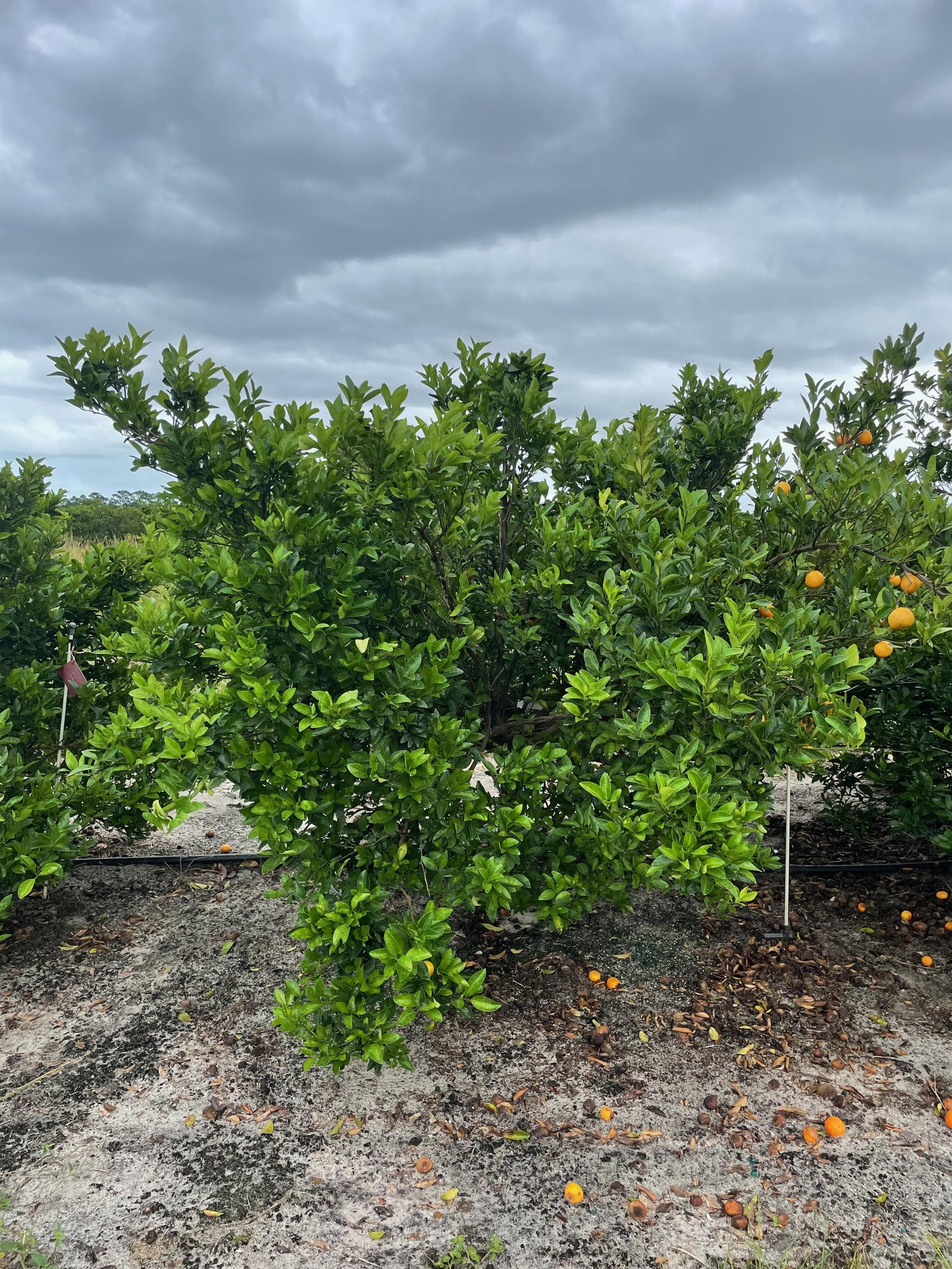fruit_on_ground: (886, 604, 917, 633), (792, 741, 822, 768), (897, 569, 925, 596), (791, 713, 819, 739), (744, 708, 771, 731), (883, 566, 906, 589), (816, 696, 839, 719), (803, 568, 827, 590), (871, 638, 895, 659), (834, 431, 856, 450), (854, 428, 875, 447), (772, 479, 793, 498), (758, 601, 778, 620)
fruit_on_tree: (823, 1115, 848, 1140), (562, 1180, 585, 1206), (626, 1198, 649, 1220), (800, 1123, 823, 1144), (413, 1154, 435, 1174), (723, 1197, 744, 1217), (728, 1213, 750, 1231), (817, 1081, 837, 1098), (598, 1104, 615, 1122), (770, 1111, 787, 1127), (586, 967, 603, 983), (604, 974, 621, 990), (942, 1106, 952, 1132), (830, 1056, 847, 1071), (704, 1093, 719, 1109), (899, 907, 914, 922), (689, 1193, 703, 1208), (854, 899, 869, 913), (697, 1110, 712, 1124), (920, 953, 935, 967), (935, 887, 950, 901), (219, 841, 234, 853), (942, 918, 952, 934), (204, 829, 217, 840)
